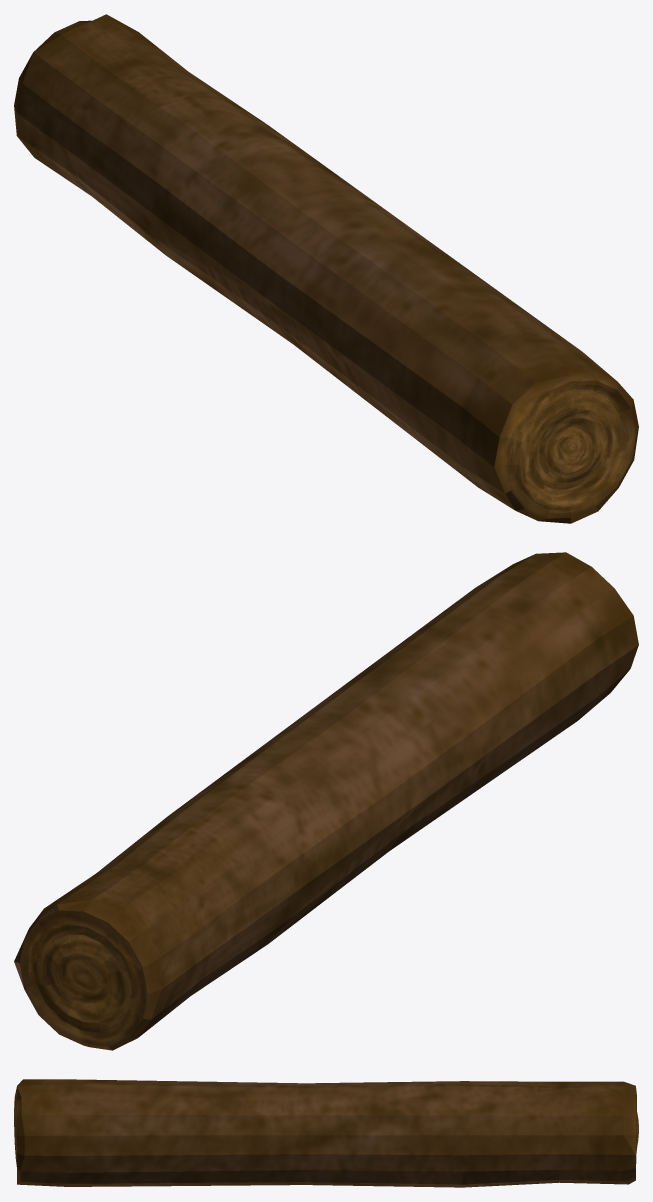
The model's file is WoodLog_1.glb.
3 views of the same model, one above another, from view 1: azimuth 30°, elevation 25°; view 2: azimuth 150°, elevation 25°; view 3: azimuth 270°, elevation 25° (orthographic). The views are drawn at different scales.
Visible parts, largest first — view 1: Baumstamm; view 2: Baumstamm; view 3: Baumstamm.
Part boxes in pixels (x1=…): Baumstamm: x1=14, y1=14, x2=638, y2=523; Baumstamm: x1=14, y1=552, x2=638, y2=1050; Baumstamm: x1=14, y1=1079, x2=638, y2=1187.
Bounding box in the file's own units: 0.8303 × 0.8232 × 4.77.
Materials: 1 (1 with a texture image).
